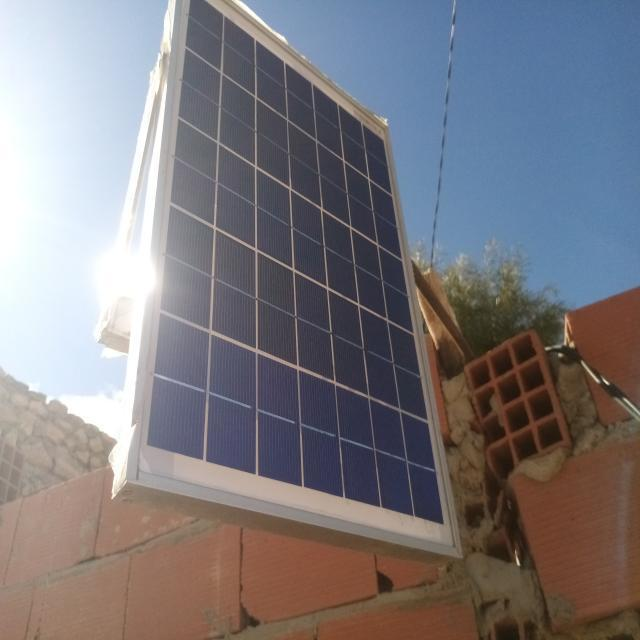Normal Solar Panel: (122, 0, 458, 556)
